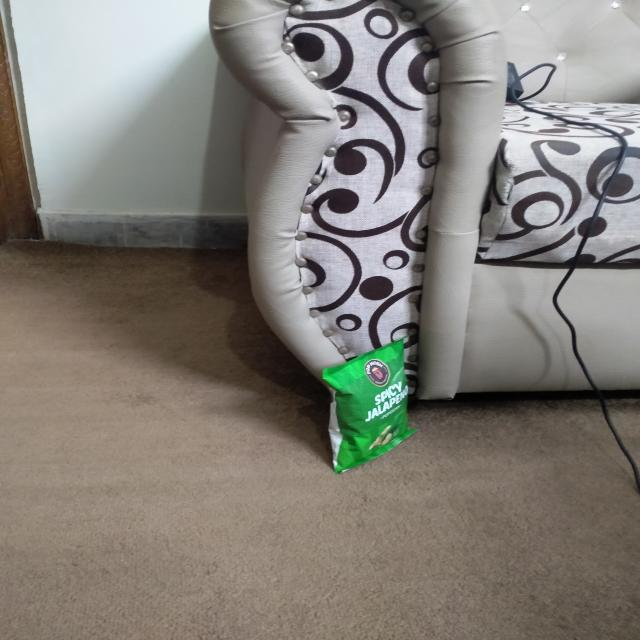Plastic: (314, 334, 422, 477)
